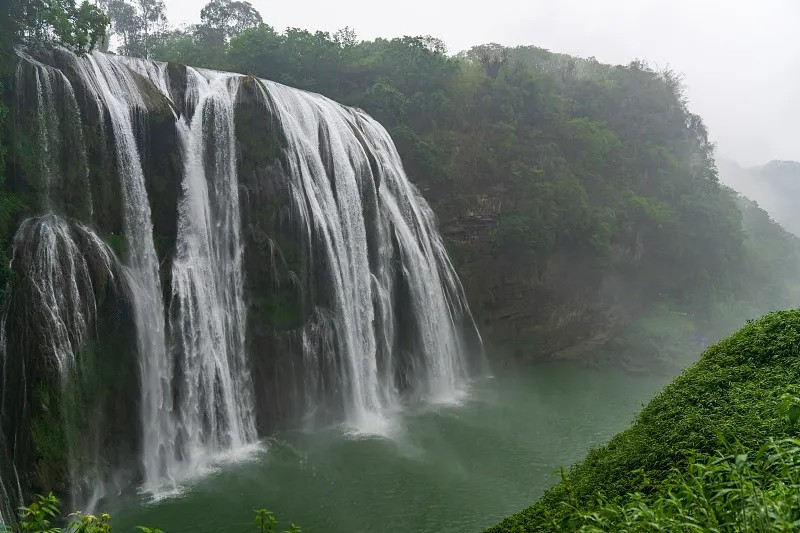Huangguoshu: (26, 49, 487, 496)
